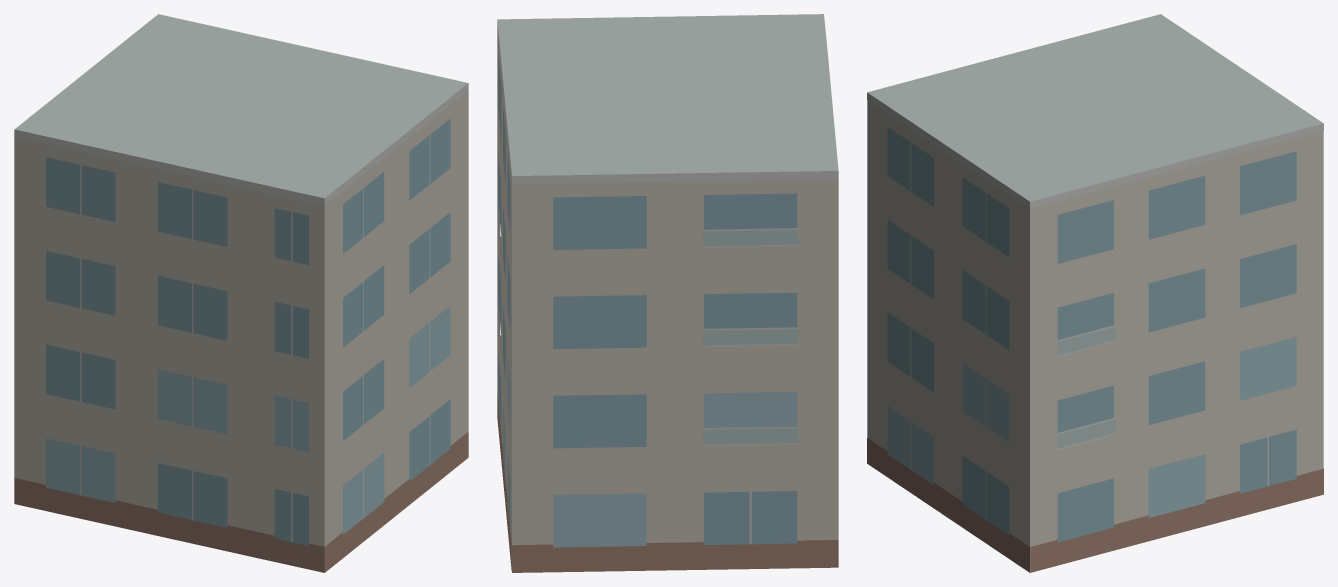
The model's file is residential-f63a0328-5a2e-4e96-b909-92bcb4330e39.glb.
3 renders of one model, left to right at view 1: azimuth 30°, elevation 25°; view 2: azimuth 150°, elevation 25°; view 3: azimuth 270°, elevation 25°, orthographic. The views are drawn at different scales.
Parts seen in each view (by area): view 1: residential-f63a0328-5a2e-4e96-b909-92bcb4330e39.tmp; view 2: residential-f63a0328-5a2e-4e96-b909-92bcb4330e39.tmp; view 3: residential-f63a0328-5a2e-4e96-b909-92bcb4330e39.tmp.
Boxes of the visible parts, x1,y1,x2,y2 form: residential-f63a0328-5a2e-4e96-b909-92bcb4330e39.tmp: [14, 14, 468, 572]; residential-f63a0328-5a2e-4e96-b909-92bcb4330e39.tmp: [497, 14, 838, 572]; residential-f63a0328-5a2e-4e96-b909-92bcb4330e39.tmp: [867, 14, 1323, 572].
Bounding box in the file's own units: 13.24 × 12.2 × 13.61.
